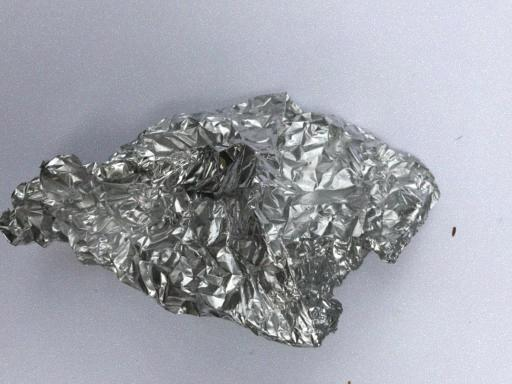metal: (0, 89, 445, 350)
